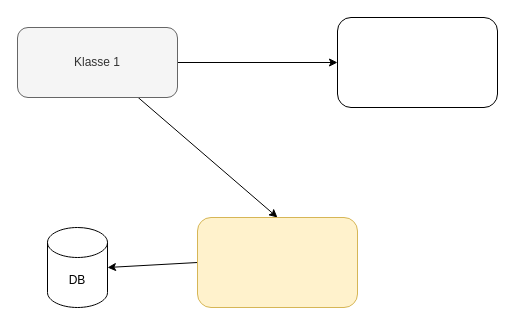
Image size: 515x325. Some labels were removed from this diagram. The shapes that lost their labels are listed below. From the top down, each one's centre as x and y in pixels, then its label:
the point at 417,62: Klasse 2
the point at 277,262: Klasse 3
